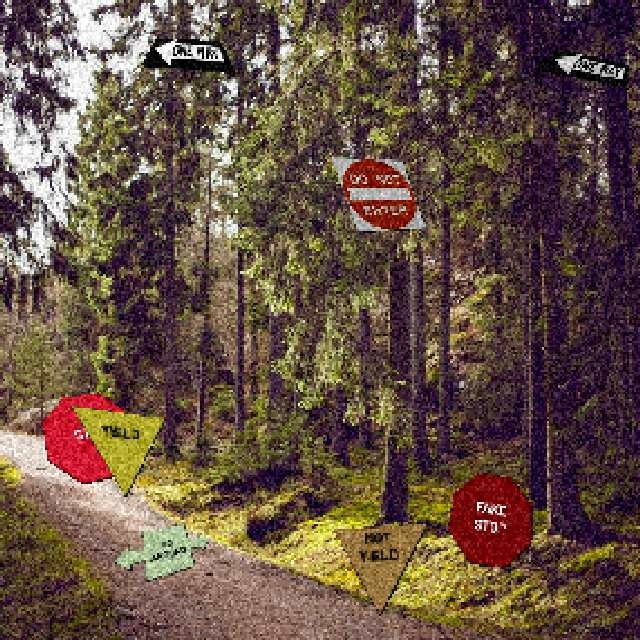DO_NOT_ENTER: (329, 155, 425, 231)
FAKE_STOP: (446, 471, 531, 567)
GO_AROUND: (112, 522, 208, 580)
NOT_YIELD: (331, 521, 427, 615)
ONE_WAY_ left: (532, 46, 628, 86), (138, 35, 234, 72)
STOP: (40, 391, 136, 483)
YIELD: (69, 404, 165, 496)
